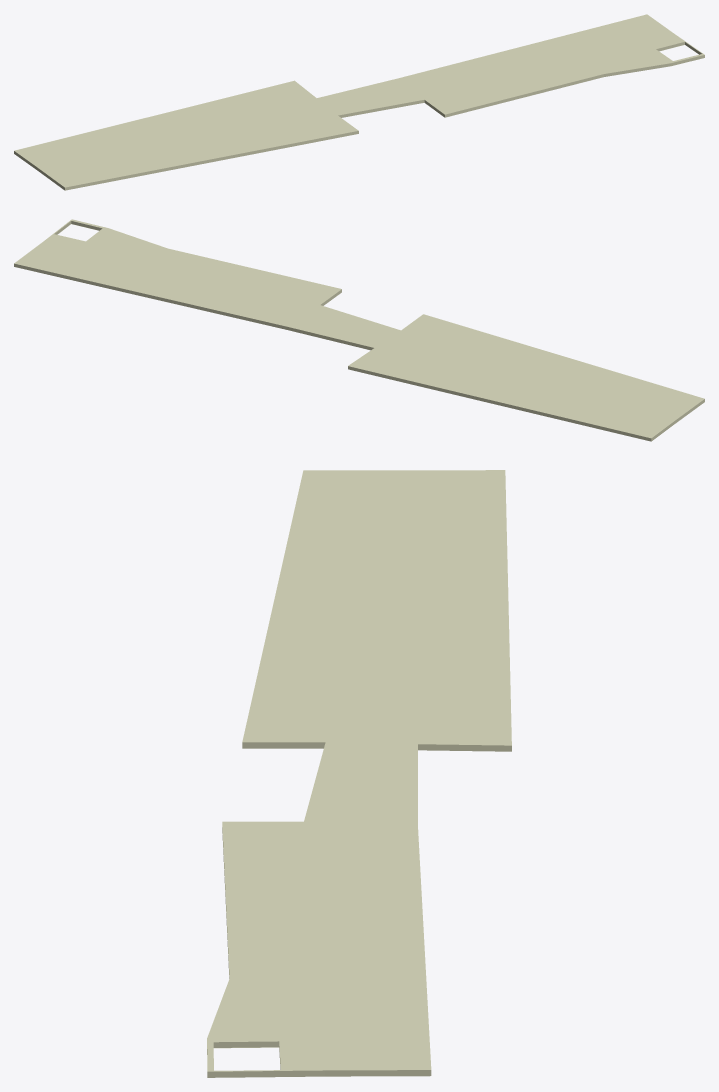
The model's file is PisosPiso1.fbx.
3 renders of one model, top to bottom at view 1: azimuth 30°, elevation 25°; view 2: azimuth 150°, elevation 25°; view 3: azimuth 270°, elevation 25°, orthographic. The views are drawn at different scales.
Visible parts, largest first — view 1: pCube3; view 2: pCube3; view 3: pCube3.
Part boxes in pixels (x1,y1,x2,y2): pCube3: [14, 14, 704, 190]; pCube3: [14, 219, 704, 441]; pCube3: [207, 470, 511, 1077].
Size of the model in its own units: 55.07 by 0.262 by 11.79.
